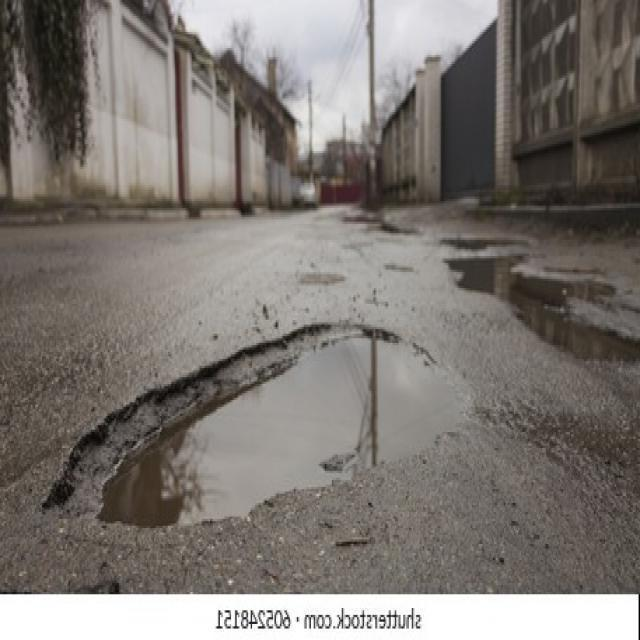pothole: (44, 318, 467, 526)
